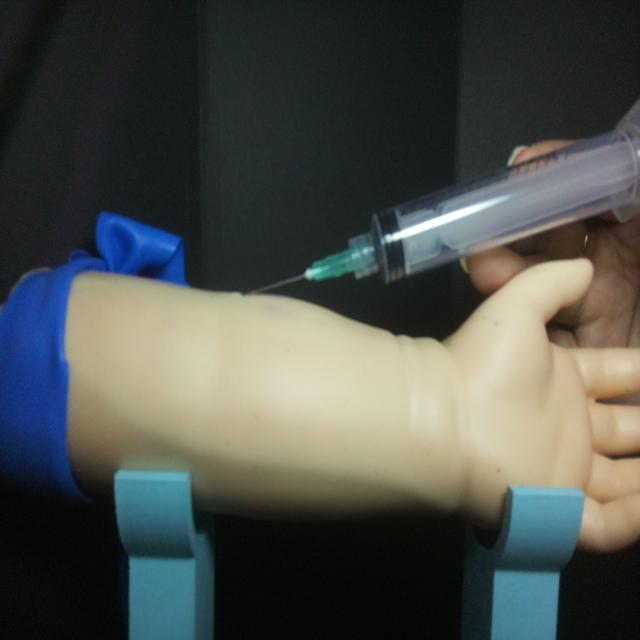19deg: (244, 96, 637, 300)
